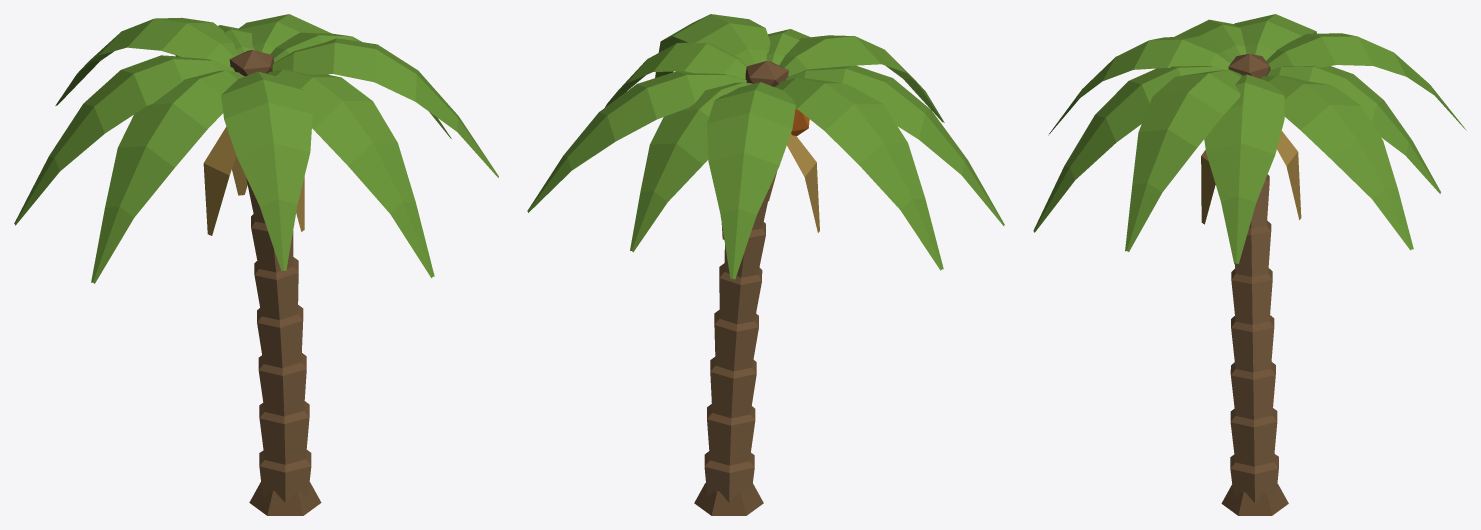
File: palm_b.glb
3 views of the same model, side by side, from view 1: azimuth 30°, elevation 25°; view 2: azimuth 150°, elevation 25°; view 3: azimuth 270°, elevation 25° (orthographic). The views are drawn at different scales.
Parts seen in each view (by area): view 1: palm_b; view 2: palm_b; view 3: palm_b.
Part boxes in pixels (x1,y1,x2,y2): palm_b: [14, 14, 498, 515]; palm_b: [527, 14, 1004, 515]; palm_b: [1033, 14, 1466, 515].
Bounding box in the file's own units: 2.83 × 3.18 × 2.83.
